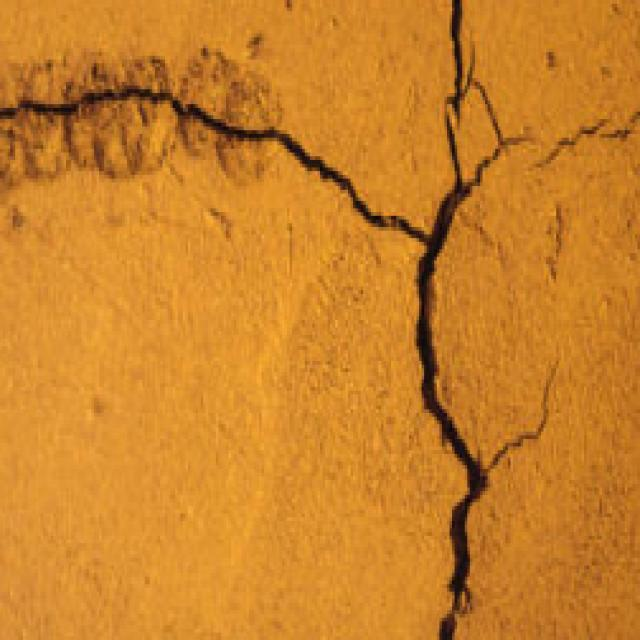branched cracks: (0, 0, 555, 639), (539, 111, 639, 165)
